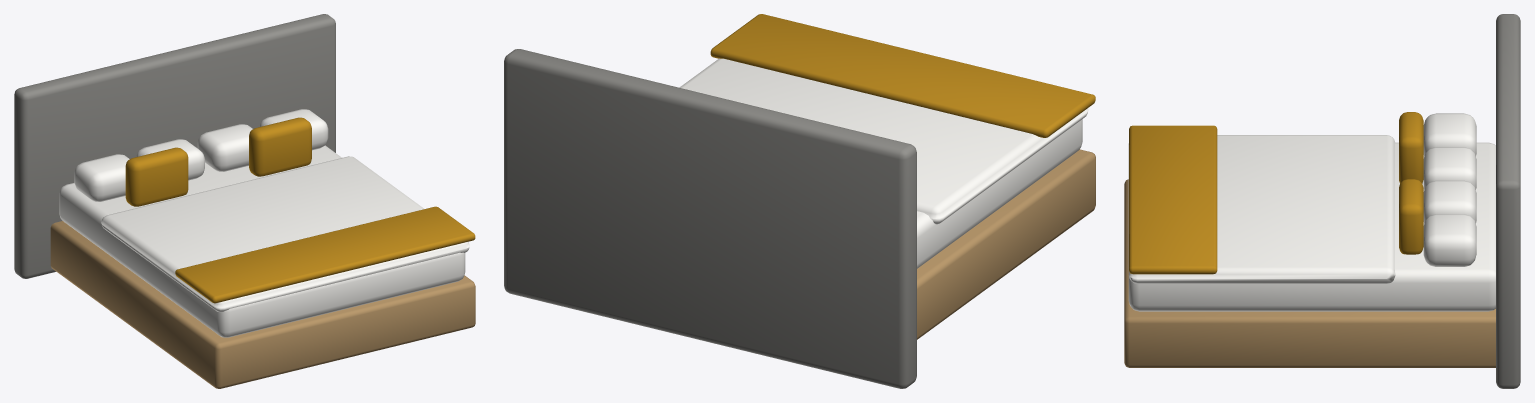
Rendered from fur_bed_queen.glb.
The picture shows the model from 3 angles, left to right: view 1: azimuth 30°, elevation 25°; view 2: azimuth 150°, elevation 25°; view 3: azimuth 270°, elevation 25°; orthographic projection. The views are drawn at different scales.
Parts seen in each view (by area): view 1: FUR_bed_queen; view 2: FUR_bed_queen; view 3: FUR_bed_queen.
Boxes of the visible parts, box(x1,y1,x2,y2) form: FUR_bed_queen: box(14, 14, 475, 388); FUR_bed_queen: box(504, 14, 1095, 388); FUR_bed_queen: box(1124, 14, 1520, 388).
Bounding box in the file's own units: 2.3 × 1.3 × 2.24.
1 material, 1 textured.
